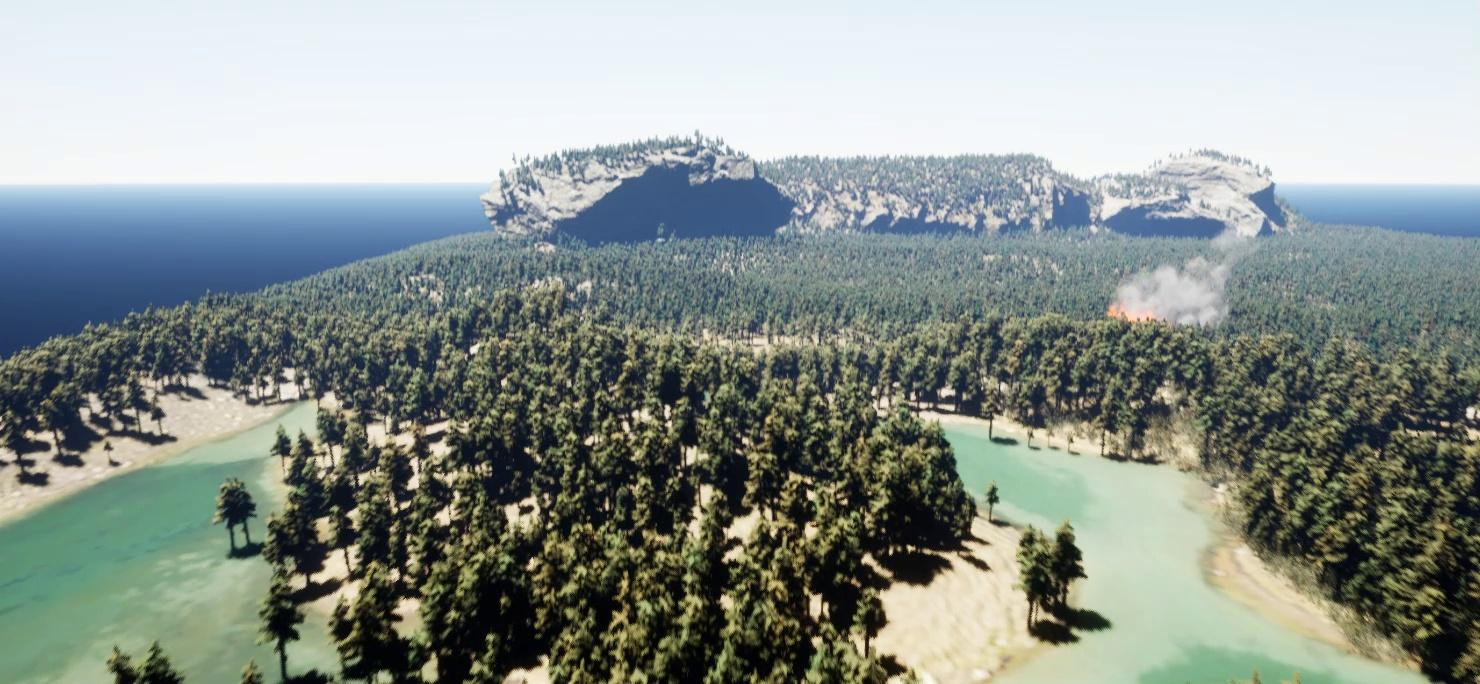fire: (1106, 299, 1154, 322)
smoke: (1100, 252, 1234, 329)
